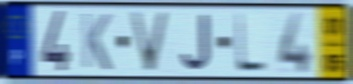4: (276, 10, 316, 76), (39, 9, 72, 75)
J: (179, 12, 213, 73)
K: (80, 11, 113, 73)
L: (234, 12, 269, 75)
V: (127, 10, 173, 74)
